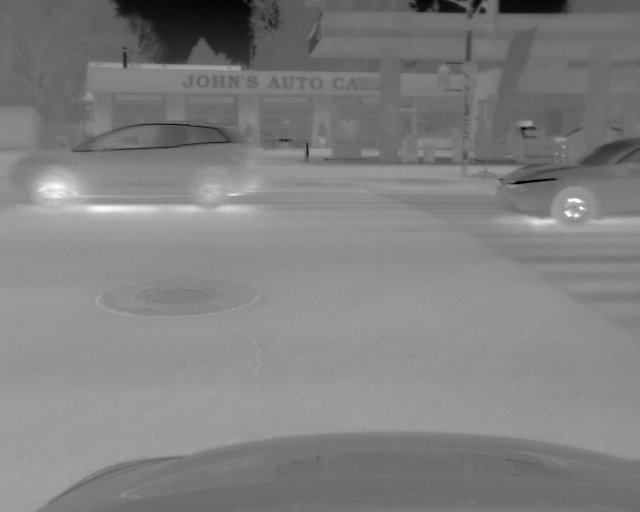car: (8, 121, 263, 208), (495, 136, 640, 227)
